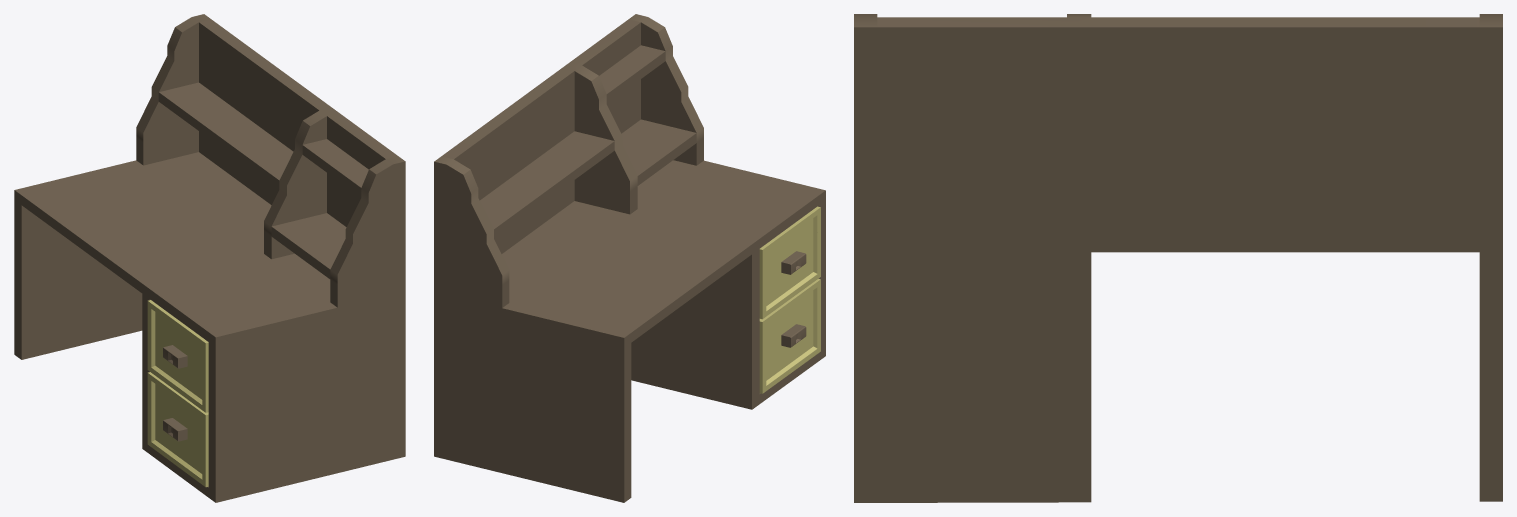
Rendered from studydesk.fbx.
The picture shows the model from 3 angles, left to right: view 1: azimuth 30°, elevation 25°; view 2: azimuth 150°, elevation 25°; view 3: azimuth 270°, elevation 25°; orthographic projection. The views are drawn at different scales.
Visible parts, largest first — view 1: desk, drawer_two, drawer_one; view 2: desk, drawer_two, drawer_one; view 3: desk.
Boxes of the visible parts, left/top/right/bottom form: desk: left=14, top=14, right=405, bottom=502; drawer_two: left=147, top=372, right=208, bottom=487; drawer_one: left=147, top=300, right=208, bottom=412; desk: left=434, top=14, right=825, bottom=502; drawer_two: left=759, top=279, right=820, bottom=393; drawer_one: left=759, top=206, right=820, bottom=319; desk: left=854, top=14, right=1502, bottom=502.
Bounding box in the file's own units: 1.43 × 2.03 × 2.51.
